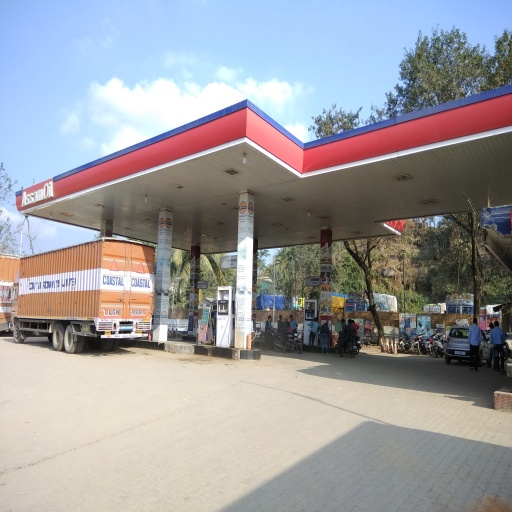roof: (15, 100, 512, 244)
